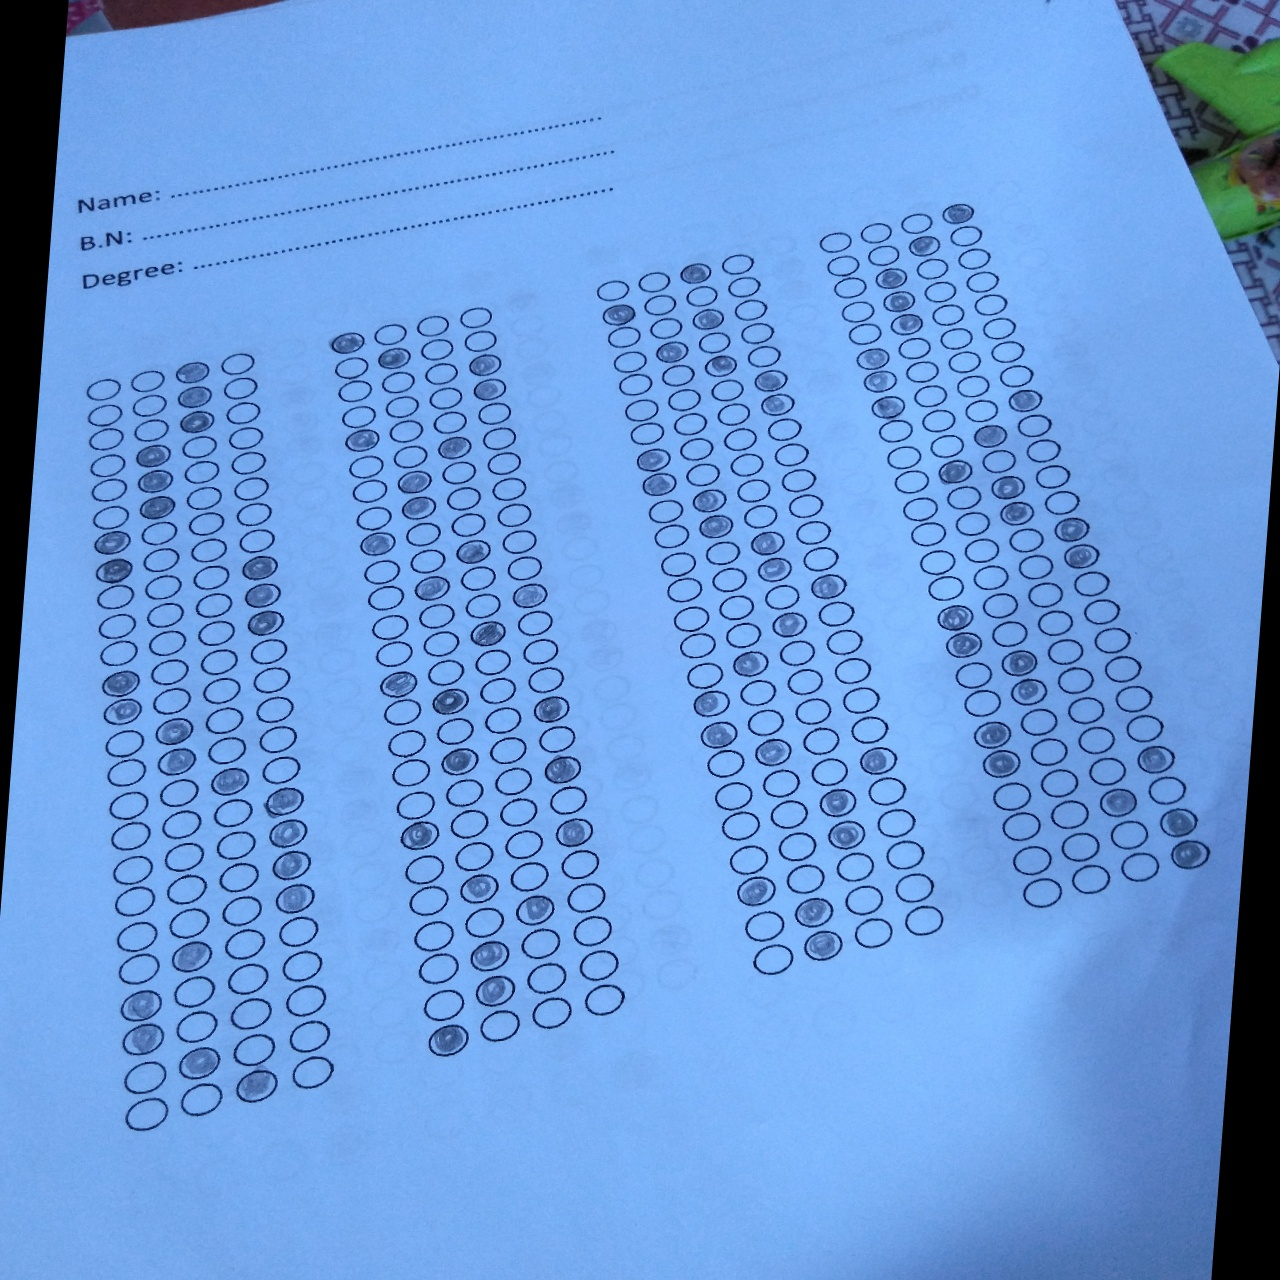not-c: (522, 959, 570, 996), (527, 994, 576, 1032), (123, 1095, 170, 1132), (288, 1054, 335, 1091), (286, 1017, 333, 1055), (230, 1032, 277, 1069), (170, 973, 217, 1010), (222, 926, 268, 964), (576, 946, 622, 983), (476, 1007, 523, 1044), (850, 915, 897, 953), (891, 870, 938, 907), (279, 947, 327, 983), (223, 961, 271, 998), (173, 1009, 222, 1046), (177, 1081, 224, 1117), (229, 995, 275, 1032), (581, 982, 628, 1019), (750, 941, 797, 978), (741, 908, 788, 945), (900, 903, 947, 939), (282, 983, 329, 1019), (274, 914, 321, 949), (217, 859, 263, 894), (210, 796, 256, 831), (122, 1060, 168, 1095), (166, 906, 211, 941), (1068, 862, 1112, 897), (114, 919, 159, 953), (162, 840, 207, 874), (158, 808, 204, 842), (1047, 798, 1092, 832), (881, 838, 928, 871), (220, 893, 264, 928), (164, 872, 207, 907), (116, 952, 161, 986), (157, 775, 202, 809), (258, 753, 302, 787), (784, 862, 829, 896), (1020, 876, 1064, 910), (1058, 829, 1103, 863), (256, 722, 301, 755), (775, 830, 821, 863), (864, 775, 910, 808), (767, 798, 812, 831), (719, 809, 764, 842), (712, 779, 757, 812), (758, 767, 804, 799), (806, 755, 852, 788), (846, 713, 892, 745), (798, 724, 844, 757), (842, 884, 887, 917), (215, 829, 258, 863), (546, 784, 590, 818), (502, 828, 545, 862), (402, 853, 445, 887), (407, 884, 450, 918), (462, 905, 505, 939), (508, 859, 551, 893), (558, 847, 601, 881), (422, 988, 465, 1022), (1036, 765, 1080, 799), (989, 779, 1033, 813), (999, 810, 1042, 844), (1145, 772, 1189, 806), (1107, 818, 1150, 852), (107, 788, 151, 821), (204, 733, 248, 765), (570, 915, 614, 948), (833, 850, 878, 883), (874, 806, 919, 839), (704, 747, 749, 779), (727, 843, 772, 874), (519, 926, 561, 960), (1010, 843, 1053, 877), (1118, 850, 1160, 884), (111, 853, 155, 886), (447, 808, 490, 840), (497, 796, 540, 829), (411, 919, 455, 952), (564, 881, 607, 914), (108, 821, 152, 852), (1123, 713, 1167, 744), (452, 840, 495, 873), (417, 952, 459, 985), (253, 694, 297, 726), (113, 885, 156, 917), (384, 728, 428, 760), (481, 704, 524, 736), (150, 685, 192, 716), (250, 665, 292, 696), (203, 704, 245, 736), (104, 728, 147, 760), (524, 665, 566, 696), (839, 685, 881, 716), (776, 638, 818, 669), (535, 724, 578, 755), (1074, 724, 1117, 755), (1085, 756, 1129, 787), (486, 734, 527, 765), (745, 707, 787, 738), (816, 598, 857, 629), (1055, 665, 1096, 696), (1017, 706, 1058, 737), (200, 676, 243, 707), (373, 639, 415, 669), (418, 628, 461, 659), (474, 647, 516, 678), (433, 716, 475, 747), (475, 676, 517, 707), (492, 767, 535, 797), (791, 696, 833, 727), (832, 655, 874, 686), (1081, 597, 1123, 627), (95, 612, 138, 641), (389, 758, 433, 788), (1027, 737, 1070, 767), (1092, 624, 1132, 655), (98, 638, 139, 668), (425, 658, 467, 688), (785, 667, 826, 697), (685, 661, 726, 692), (823, 627, 864, 658), (678, 631, 719, 661), (670, 604, 712, 634), (794, 518, 835, 549), (980, 591, 1021, 621), (961, 688, 1002, 719), (1044, 636, 1085, 667), (1114, 683, 1155, 714), (147, 628, 189, 658), (198, 647, 240, 676), (104, 758, 147, 788), (520, 636, 563, 666), (382, 697, 424, 727), (394, 791, 436, 821), (722, 621, 764, 651), (148, 658, 191, 686), (989, 619, 1029, 649), (953, 661, 993, 692), (1102, 654, 1142, 685), (1065, 695, 1105, 726), (195, 618, 236, 647), (737, 678, 778, 707), (799, 545, 840, 574), (663, 576, 704, 605), (785, 491, 826, 520), (646, 496, 687, 525), (925, 573, 966, 602), (1024, 580, 1065, 610), (141, 546, 183, 574), (247, 638, 290, 666), (401, 520, 443, 549), (1034, 608, 1076, 636), (658, 550, 697, 579), (652, 520, 692, 550), (733, 476, 772, 505), (971, 563, 1010, 592), (139, 519, 181, 547), (186, 509, 227, 537), (448, 511, 489, 539), (493, 501, 535, 529), (457, 564, 498, 592), (369, 613, 410, 641), (513, 610, 554, 638), (444, 778, 485, 806), (715, 593, 756, 621), (761, 583, 802, 611), (709, 566, 750, 594), (702, 539, 743, 567), (741, 502, 782, 530), (907, 520, 948, 549), (1071, 568, 1112, 597), (362, 559, 404, 586), (497, 529, 539, 556), (503, 554, 545, 581), (365, 584, 407, 611), (416, 602, 458, 629), (184, 483, 223, 512), (727, 451, 765, 481), (195, 591, 234, 619), (772, 441, 812, 469), (678, 434, 717, 462), (720, 425, 760, 454), (765, 416, 805, 444), (1042, 489, 1082, 517), (917, 547, 956, 576), (90, 504, 131, 531), (190, 537, 231, 564), (95, 583, 136, 610), (190, 564, 231, 591), (144, 601, 185, 628), (461, 593, 502, 620), (961, 537, 1002, 564), (408, 549, 449, 576), (779, 467, 818, 495), (683, 459, 722, 488), (229, 449, 268, 476), (86, 425, 125, 452), (143, 574, 183, 601), (927, 433, 967, 459), (978, 448, 1017, 475), (1033, 463, 1073, 490), (952, 510, 992, 537), (1005, 526, 1044, 553), (1015, 553, 1055, 580), (226, 424, 265, 451), (237, 527, 275, 554), (86, 402, 124, 429), (88, 452, 127, 479), (937, 325, 975, 352), (223, 400, 263, 425), (182, 459, 222, 485), (900, 496, 940, 522), (944, 485, 983, 511), (481, 424, 518, 451), (347, 454, 384, 481), (440, 459, 477, 486), (485, 449, 523, 476), (444, 485, 482, 512), (731, 297, 769, 324), (719, 251, 756, 278), (817, 229, 855, 256), (964, 268, 1001, 295), (220, 375, 259, 401), (231, 476, 270, 502), (234, 502, 273, 527), (128, 368, 166, 394), (129, 393, 168, 418), (132, 418, 171, 444), (181, 434, 219, 459), (414, 312, 452, 338), (332, 354, 370, 380), (884, 444, 922, 470), (892, 469, 931, 495), (1023, 438, 1062, 464), (716, 400, 753, 427), (685, 282, 721, 309), (948, 222, 985, 248), (914, 256, 951, 282), (920, 407, 956, 434), (1015, 413, 1051, 440), (218, 350, 256, 376), (335, 379, 373, 404), (427, 384, 464, 410), (392, 444, 429, 470), (350, 478, 388, 504), (490, 477, 527, 503), (660, 362, 697, 388), (617, 372, 654, 397), (647, 315, 685, 341), (738, 320, 776, 346), (896, 334, 933, 360), (972, 291, 1009, 316), (930, 302, 967, 328), (904, 359, 941, 384), (945, 349, 982, 375), (998, 363, 1035, 389), (911, 382, 948, 408), (876, 417, 913, 443), (84, 377, 123, 402), (89, 477, 128, 502), (461, 329, 499, 354), (475, 401, 513, 425), (629, 420, 665, 447), (606, 324, 641, 350), (355, 506, 392, 532), (670, 411, 707, 437), (622, 397, 659, 423), (666, 386, 702, 411), (709, 377, 745, 403), (612, 349, 648, 375), (695, 329, 731, 355), (726, 274, 762, 300), (858, 219, 894, 245), (899, 210, 935, 236), (981, 316, 1017, 342), (921, 279, 958, 305), (956, 246, 993, 272), (954, 373, 990, 399), (964, 399, 1000, 424), (372, 322, 409, 347), (418, 336, 456, 361), (423, 361, 461, 386), (339, 404, 376, 429), (387, 418, 424, 443), (430, 409, 468, 434), (455, 306, 493, 329), (745, 343, 781, 369), (840, 298, 876, 324), (846, 321, 881, 347), (989, 339, 1024, 365), (384, 394, 420, 418), (636, 270, 672, 294), (866, 243, 901, 267), (380, 370, 416, 394), (641, 293, 678, 316), (594, 279, 629, 302), (832, 275, 867, 299), (828, 254, 862, 278)
taken-c: (456, 869, 504, 907), (168, 938, 215, 976), (425, 1021, 474, 1058), (234, 1068, 281, 1105), (510, 892, 557, 930), (801, 927, 849, 964), (823, 817, 871, 853), (120, 987, 166, 1023), (121, 1022, 168, 1058), (467, 937, 513, 973), (552, 813, 599, 850), (792, 896, 839, 932), (856, 743, 903, 779), (753, 736, 799, 772), (175, 1044, 223, 1080), (813, 787, 862, 822), (731, 873, 779, 908), (474, 973, 519, 1009), (1167, 837, 1213, 873), (733, 874, 779, 910), (1155, 805, 1200, 840), (395, 819, 442, 853), (768, 608, 813, 642), (1133, 742, 1177, 777), (697, 719, 742, 753), (689, 688, 734, 722), (979, 747, 1023, 781), (971, 719, 1015, 753), (1006, 678, 1050, 712), (998, 647, 1042, 681), (539, 753, 586, 784), (274, 881, 318, 915), (730, 648, 774, 682), (942, 629, 986, 663), (1097, 785, 1141, 819), (155, 745, 199, 778), (207, 765, 252, 798), (264, 784, 308, 817), (270, 849, 314, 881), (436, 745, 481, 778), (469, 618, 513, 651), (449, 536, 493, 568), (354, 529, 399, 561), (529, 694, 574, 726), (428, 687, 474, 719), (152, 715, 196, 748), (409, 574, 454, 606), (935, 602, 979, 634), (1051, 516, 1095, 547), (375, 669, 420, 700), (508, 581, 552, 612), (967, 422, 1012, 452), (806, 572, 849, 604), (266, 818, 309, 849), (987, 474, 1030, 504), (93, 556, 135, 586), (100, 696, 142, 727), (1060, 542, 1103, 571), (995, 499, 1039, 529), (934, 458, 978, 488), (244, 580, 285, 611), (238, 553, 280, 583), (244, 608, 286, 638), (862, 367, 901, 397), (393, 468, 434, 497), (887, 311, 926, 341), (434, 434, 474, 463), (470, 375, 510, 404), (341, 425, 381, 455), (326, 328, 366, 358), (1006, 387, 1046, 416), (851, 346, 891, 375), (136, 493, 177, 522), (102, 669, 143, 697), (464, 353, 505, 381), (748, 529, 789, 557), (754, 554, 795, 583), (132, 443, 175, 470), (870, 392, 908, 421), (879, 287, 918, 316), (653, 338, 692, 367), (397, 493, 437, 522), (374, 345, 414, 373), (938, 200, 978, 229), (176, 408, 217, 435), (135, 467, 176, 493), (93, 527, 134, 554), (905, 232, 942, 261), (600, 301, 638, 331), (173, 384, 216, 410), (872, 265, 911, 293), (678, 259, 716, 287), (697, 512, 736, 540), (688, 305, 726, 333), (703, 353, 741, 381), (635, 445, 673, 474), (640, 470, 678, 498), (692, 486, 729, 515), (172, 360, 215, 384), (751, 367, 789, 394), (758, 392, 796, 418)
